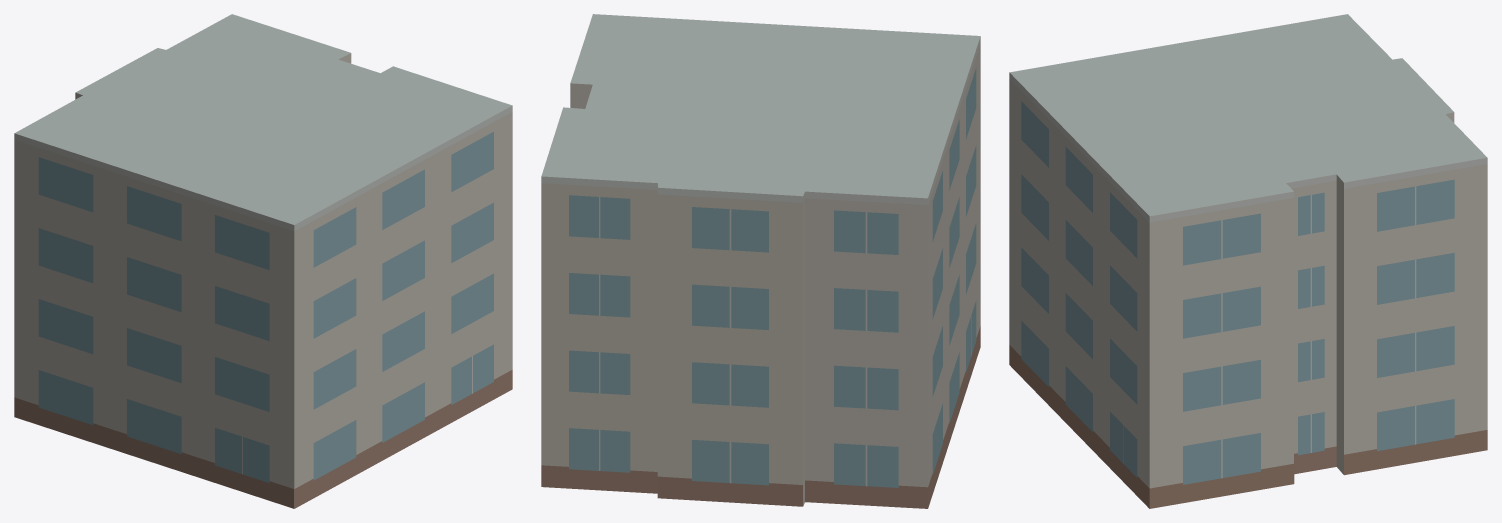
The model's file is survey-upis-32687797.glb.
The picture shows the model from 3 angles, left to right: view 1: azimuth 30°, elevation 25°; view 2: azimuth 150°, elevation 25°; view 3: azimuth 270°, elevation 25°; orthographic projection. The views are drawn at different scales.
Visible parts, largest first — view 1: survey-upis-32687797.tmp; view 2: survey-upis-32687797.tmp; view 3: survey-upis-32687797.tmp.
Boxes of the visible parts, left/top/right/bottom form: survey-upis-32687797.tmp: left=14, top=14, right=512, bottom=508; survey-upis-32687797.tmp: left=541, top=14, right=980, bottom=508; survey-upis-32687797.tmp: left=1009, top=14, right=1487, bottom=508.
Size of the model in its own units: 16.77 by 11.3 by 16.75.
